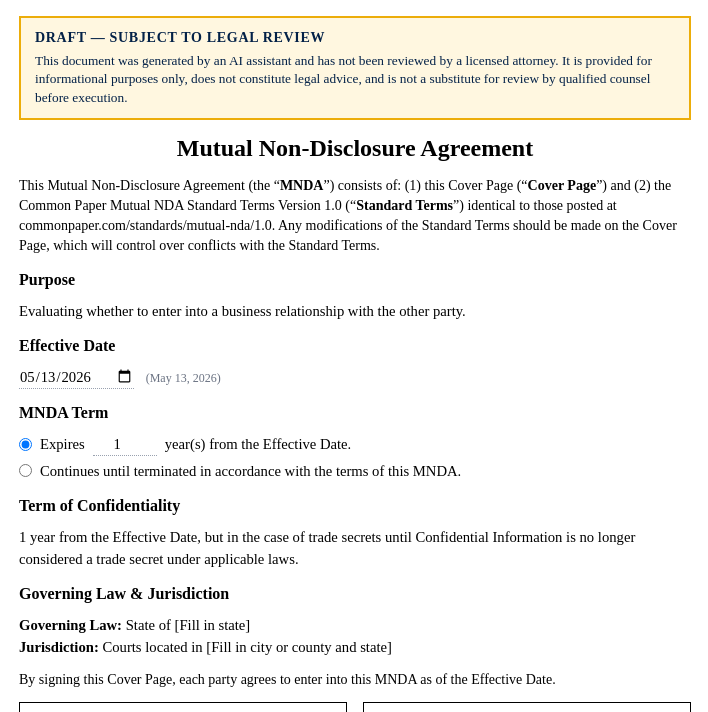
Test: <NdaPreview /> › switches MNDA Term to until-terminated and back to years via the radio
Click the radio button with aria-label "MNDA Term until terminated": [26, 470] box [19,464,32,477]
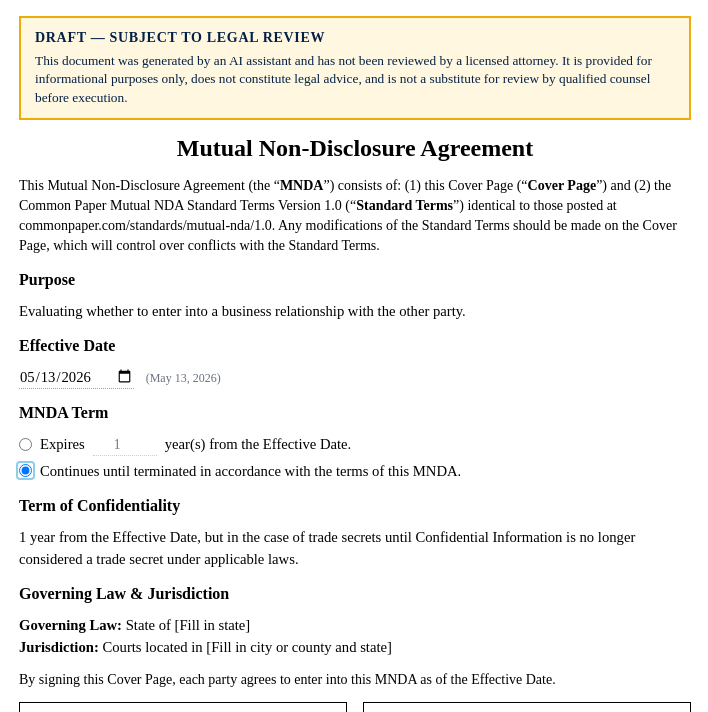
Expected: the radio button with aria-label "MNDA Term until terminated" is checked, [19,464,32,477]
Expected: the number field named "MNDA Term years" is disabled, [93,433,157,456]
Click the radio button with aria-label "MNDA Term in years": [26, 444] box [19,438,32,450]
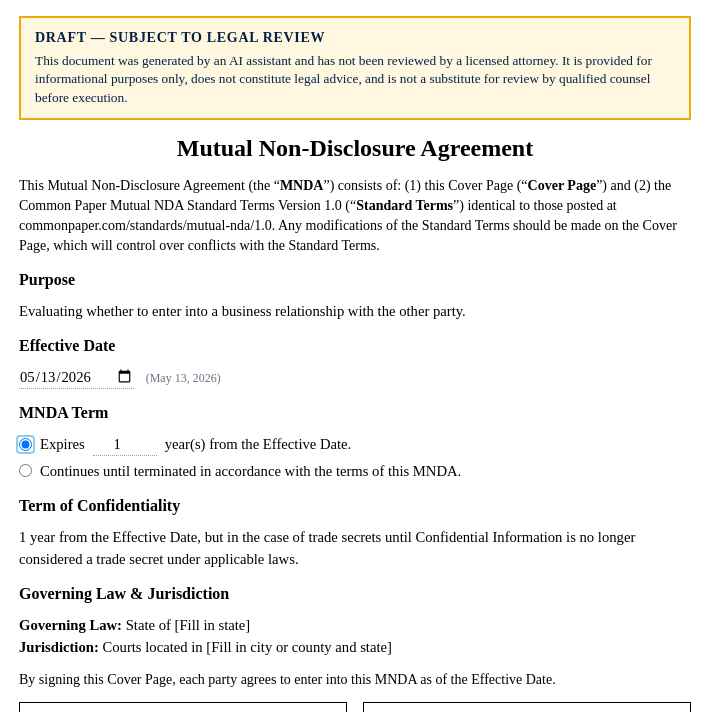
Expected: the number field named "MNDA Term years" is enabled, [93,433,157,456]
